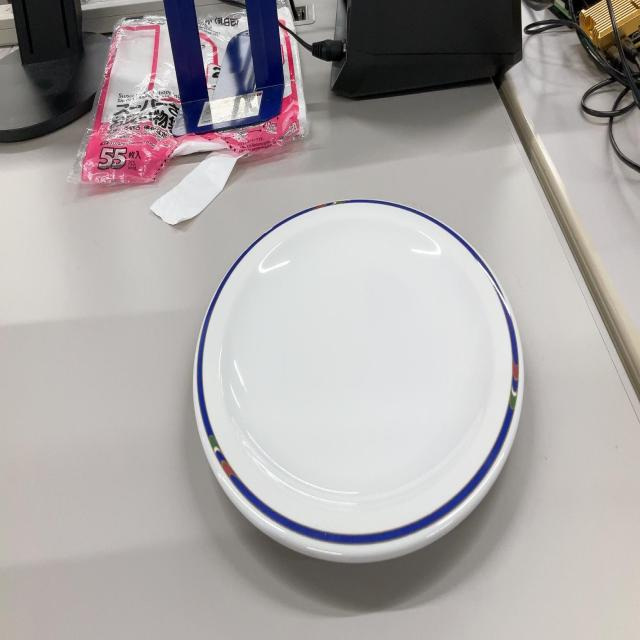plate: (190, 190, 527, 570)
